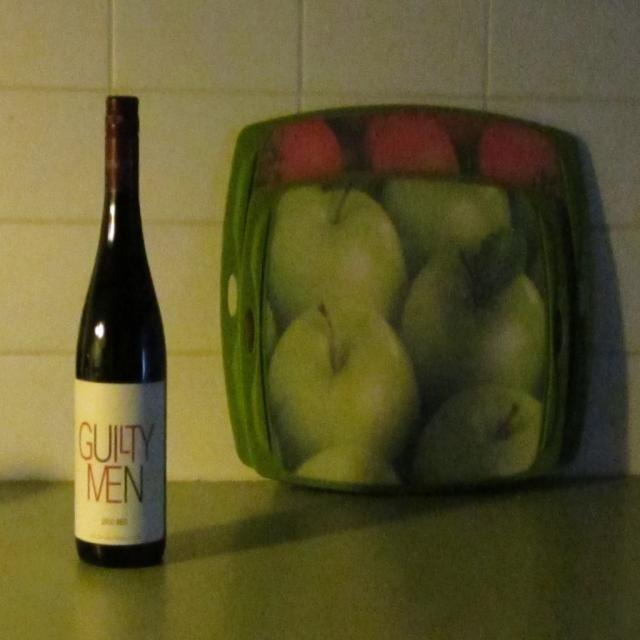Healty Apple: (265, 181, 552, 492)
